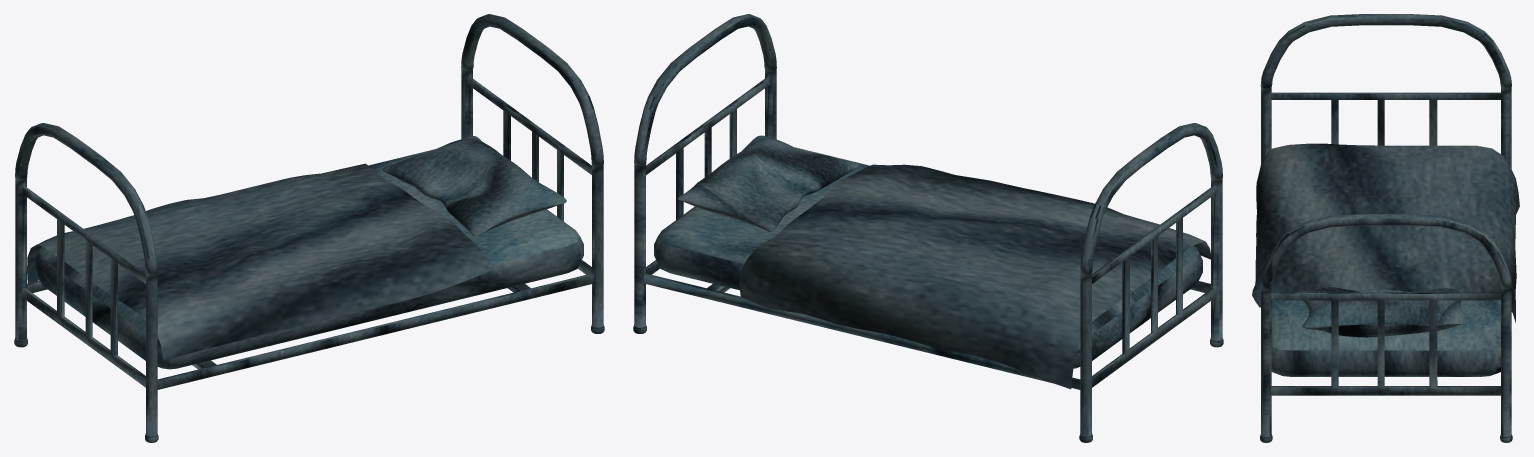
Rendered from cama (1).glb.
3 renders of one model, left to right at view 1: azimuth 30°, elevation 25°; view 2: azimuth 150°, elevation 25°; view 3: azimuth 270°, elevation 25°, orthographic. The views are drawn at different scales.
Visible parts, largest first — view 1: Object_2; view 2: Object_2; view 3: Object_2.
Boxes of the visible parts, <box> form: Object_2: <box>14,14,604,442</box>; Object_2: <box>633,14,1223,442</box>; Object_2: <box>1252,14,1519,442</box>.
Size of the model in its own units: 138 by 70.72 by 75.95.
1 material, 1 textured.
